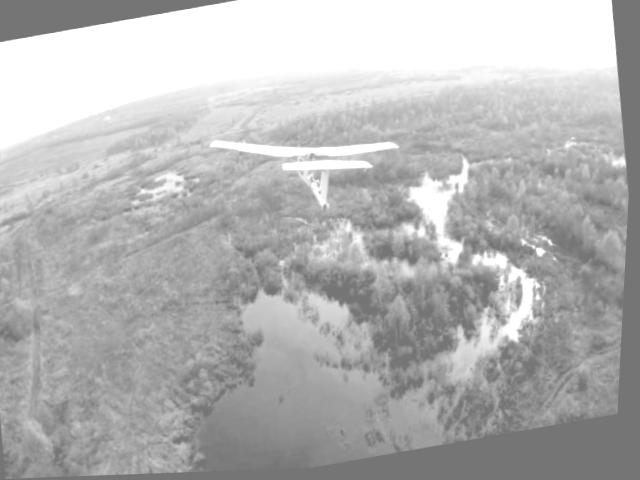hedef: (203, 110, 383, 242)
